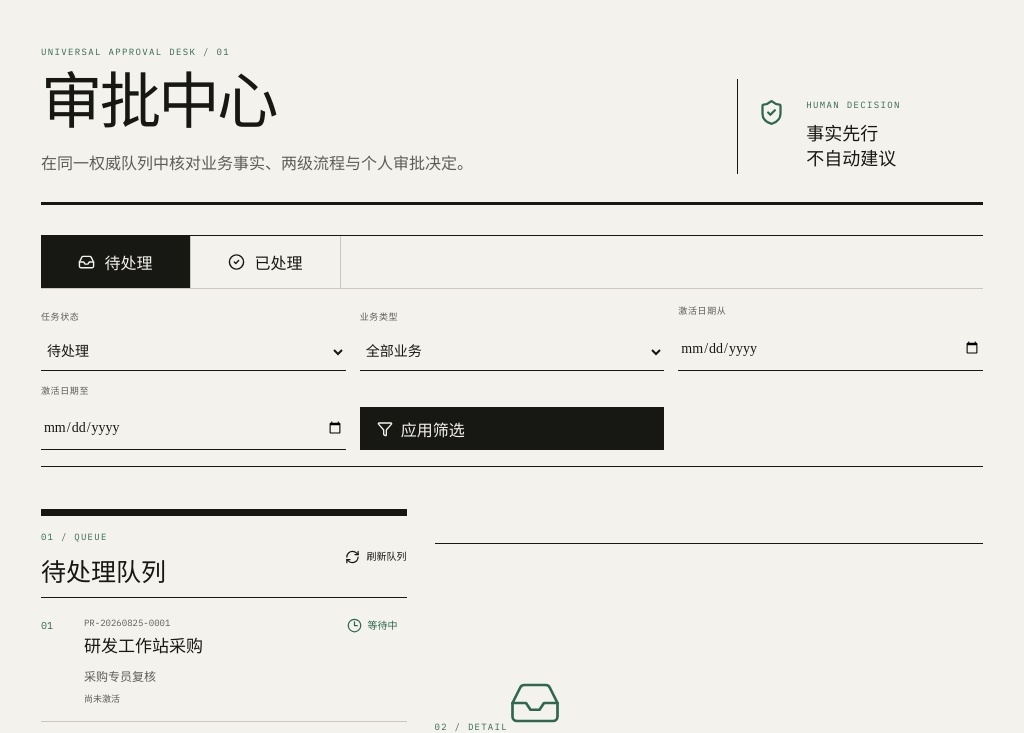
Test case: ApprovalCenterPage › does not show decision actions for a waiting task
Check: the text "研发工作站采购" is shown, box [84,637,203,656]
What coordinates should you click on to do the following:
click the button "01 PR-20260825-0001 研发工作站采购 采购专员复核 等待中 尚未激活"
I would click on:
 (127, 623)
Its box is [41,598,407,722].
(page scrolled)
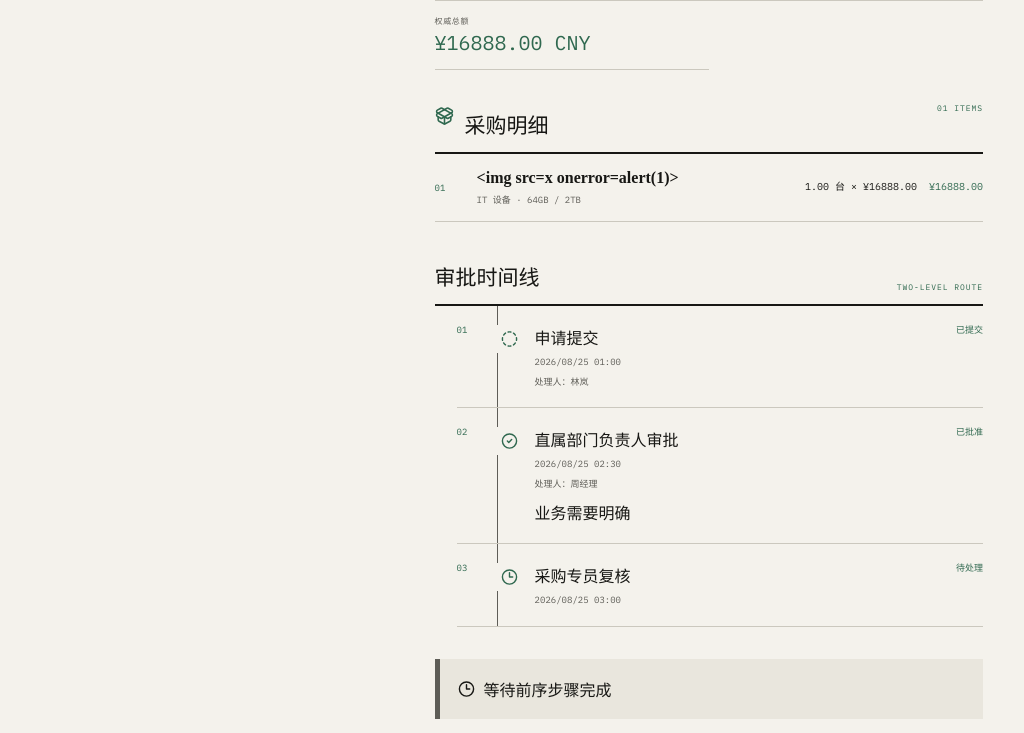
Check: the text "等待前序步骤完成" is shown, box [435,659,983,719]
